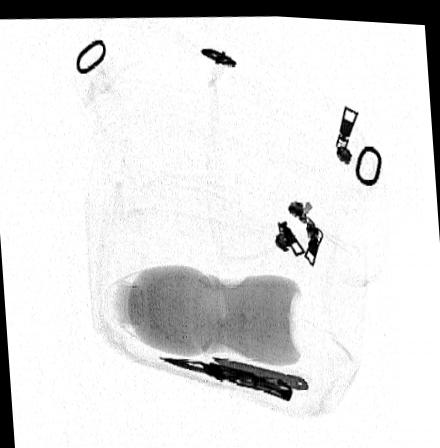Knife: (157, 354, 293, 399), (200, 333, 310, 387)
